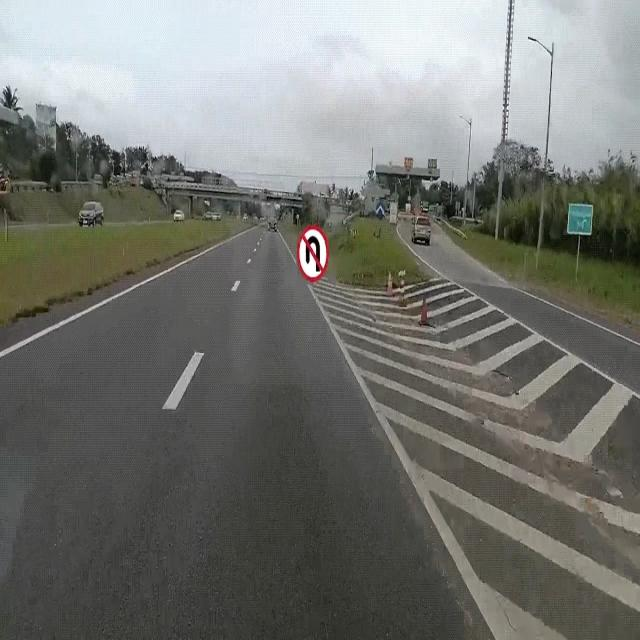Demi-Tour-Interdit: (294, 212, 332, 290)
